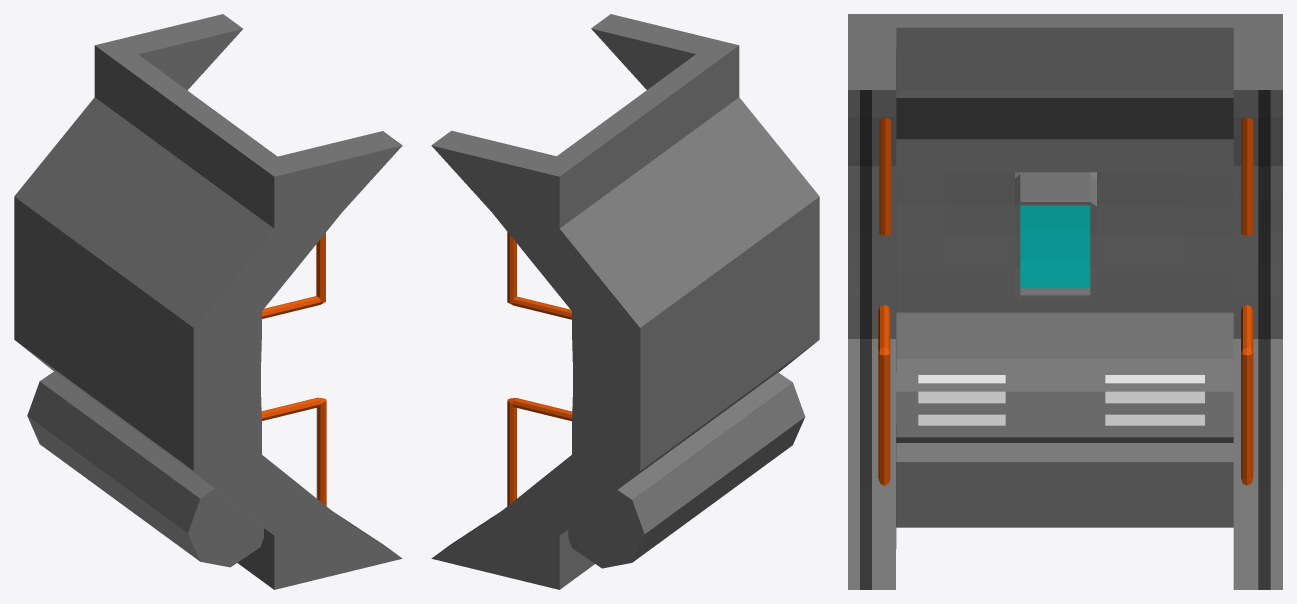
File: AirlockWall2.fbx
3 views of the same model, side by side, from view 1: azimuth 30°, elevation 25°; view 2: azimuth 150°, elevation 25°; view 3: azimuth 270°, elevation 25° (orthographic). The views are drawn at different scales.
Visible parts, largest first — view 1: Cylinder.001; view 2: Cylinder.001; view 3: Cylinder.001.
Part boxes in pixels (left/top/right/bottom): Cylinder.001: left=14, top=14, right=402, bottom=589; Cylinder.001: left=431, top=14, right=819, bottom=589; Cylinder.001: left=848, top=14, right=1282, bottom=589.
Bounding box in the file's own units: 241 × 455 × 358.
